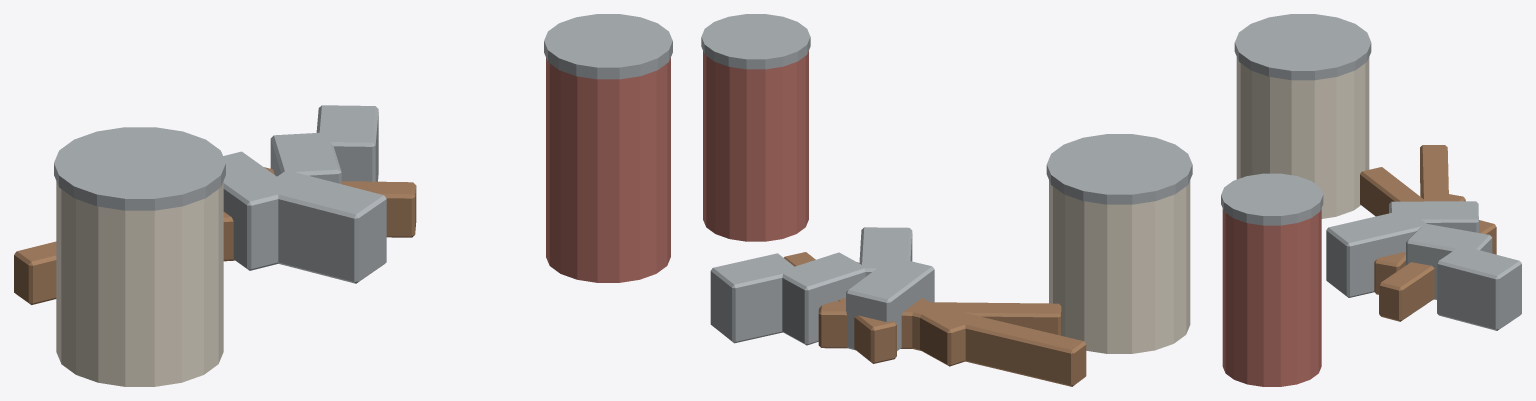
File: fill_tools.glb
3 renders of one model, left to right at view 1: azimuth 30°, elevation 25°; view 2: azimuth 150°, elevation 25°; view 3: azimuth 270°, elevation 25°, orthographic. The views are drawn at different scales.
Visible parts, largest first — view 1: fill_tools_001_paint_tin_0, fill_tools_003_paint_tin_1, fill_tools_002_paint_lid_0, fill_tools_010_tool_head_2, fill_tools_004_paint_lid_1, fill_tools_012_tool_head_3, fill_tools_006_tool_head_0, fill_tools_008_tool_head_1, fill_tools_011_tool_handle_3, fill_tools_005_tool_handle_0; view 2: fill_tools_001_paint_tin_0, fill_tools_003_paint_tin_1, fill_tools_002_paint_lid_0, fill_tools_011_tool_handle_3, fill_tools_006_tool_head_0, fill_tools_004_paint_lid_1, fill_tools_008_tool_head_1, fill_tools_012_tool_head_3, fill_tools_009_tool_handle_2, fill_tools_007_tool_handle_1, fill_tools_010_tool_head_2, fill_tools_005_tool_handle_0; view 3: fill_tools_003_paint_tin_1, fill_tools_001_paint_tin_0, fill_tools_002_paint_lid_0, fill_tools_006_tool_head_0, fill_tools_010_tool_head_2, fill_tools_004_paint_lid_1, fill_tools_005_tool_handle_0, fill_tools_008_tool_head_1, fill_tools_012_tool_head_3, fill_tools_009_tool_handle_2, fill_tools_011_tool_handle_3, fill_tools_007_tool_handle_1.
Part boxes in pixels (bbox=[...]): fill_tools_001_paint_tin_0: bbox=[56, 181, 223, 386]; fill_tools_003_paint_tin_1: bbox=[546, 58, 670, 282]; fill_tools_002_paint_lid_0: bbox=[54, 127, 225, 210]; fill_tools_010_tool_head_2: bbox=[269, 170, 386, 283]; fill_tools_004_paint_lid_1: bbox=[544, 14, 672, 79]; fill_tools_012_tool_head_3: bbox=[223, 151, 295, 270]; fill_tools_006_tool_head_0: bbox=[316, 105, 378, 181]; fill_tools_008_tool_head_1: bbox=[270, 132, 341, 183]; fill_tools_011_tool_handle_3: bbox=[14, 212, 225, 304]; fill_tools_005_tool_handle_0: bbox=[341, 181, 416, 237]; fill_tools_001_paint_tin_0: bbox=[1049, 180, 1190, 353]; fill_tools_003_paint_tin_1: bbox=[703, 51, 808, 241]; fill_tools_002_paint_lid_0: bbox=[1046, 134, 1192, 204]; fill_tools_011_tool_handle_3: bbox=[906, 307, 1086, 386]; fill_tools_006_tool_head_0: bbox=[710, 253, 794, 343]; fill_tools_004_paint_lid_1: bbox=[701, 14, 810, 69]; fill_tools_008_tool_head_1: bbox=[779, 252, 866, 345]; fill_tools_012_tool_head_3: bbox=[846, 260, 934, 350]; fill_tools_009_tool_handle_2: bbox=[818, 301, 1061, 348]; fill_tools_007_tool_handle_1: bbox=[857, 262, 968, 366]; fill_tools_010_tool_head_2: bbox=[859, 227, 912, 276]; fill_tools_005_tool_handle_0: bbox=[784, 252, 896, 363]; fill_tools_003_paint_tin_1: bbox=[1222, 209, 1321, 386]; fill_tools_001_paint_tin_0: bbox=[1236, 57, 1369, 218]; fill_tools_002_paint_lid_0: bbox=[1234, 14, 1371, 80]; fill_tools_006_tool_head_0: bbox=[1437, 245, 1521, 330]; fill_tools_010_tool_head_2: bbox=[1326, 209, 1426, 297]; fill_tools_004_paint_lid_1: bbox=[1221, 173, 1323, 225]; fill_tools_005_tool_handle_0: bbox=[1379, 220, 1496, 321]; fill_tools_008_tool_head_1: bbox=[1406, 224, 1492, 299]; fill_tools_012_tool_head_3: bbox=[1389, 201, 1478, 232]; fill_tools_009_tool_handle_2: bbox=[1360, 167, 1425, 216]; fill_tools_011_tool_handle_3: bbox=[1420, 145, 1448, 201]; fill_tools_007_tool_handle_1: bbox=[1374, 193, 1465, 294].
Bounding box in the file's own units: 0.6101 × 0.2182 × 0.347.
